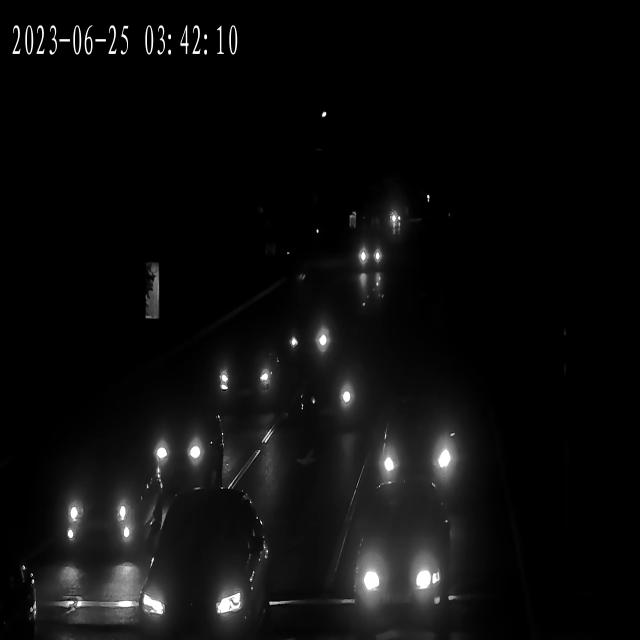Car: (140, 496, 268, 639), (340, 503, 452, 621), (51, 448, 158, 556), (118, 396, 223, 496), (363, 395, 462, 500), (211, 338, 283, 407), (273, 302, 340, 365), (308, 358, 362, 430), (354, 237, 384, 270), (387, 211, 402, 228)
